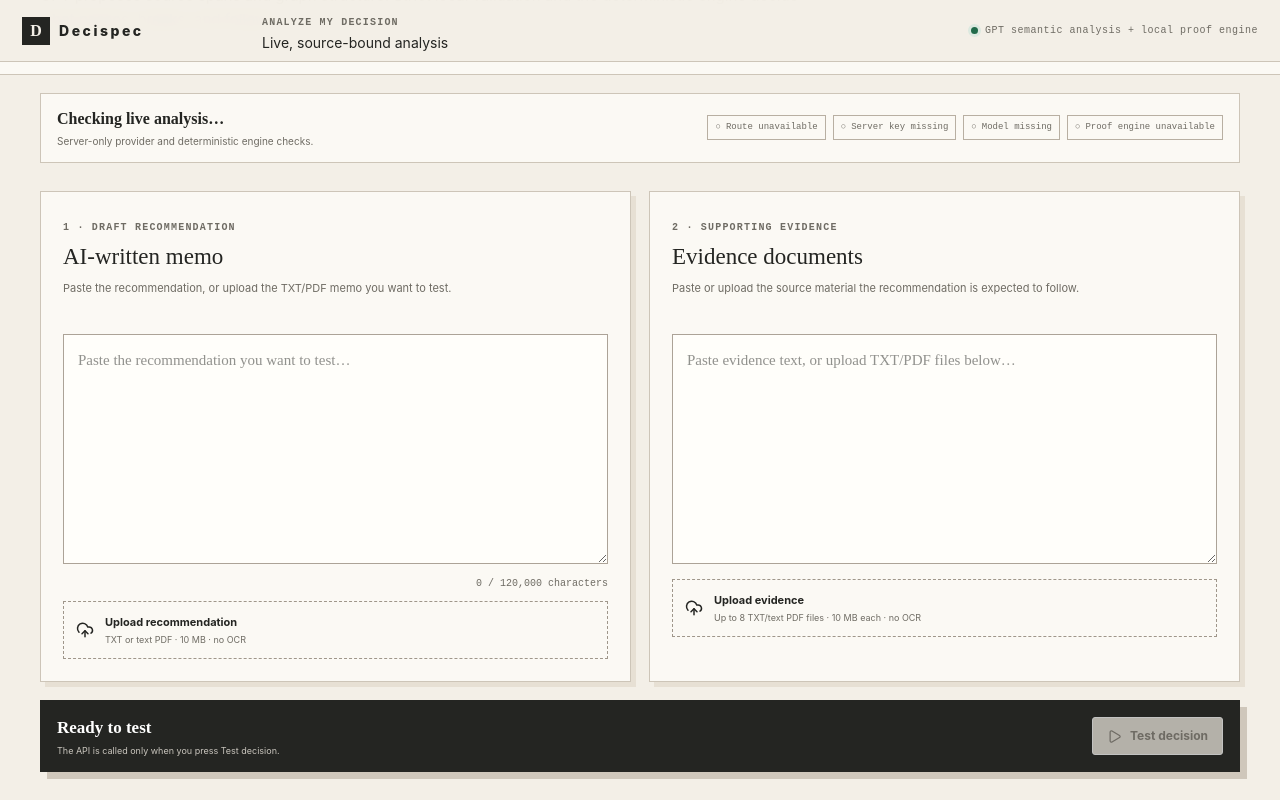
Test case: live analysis workspace › shows a safe error and never substitutes unverified output
(page scrolled)
Type "A draft" into the text box with placeholder "Paste the recommendation you want to test…".
click(336, 449); type("A draft")  # box [63, 334, 608, 564]
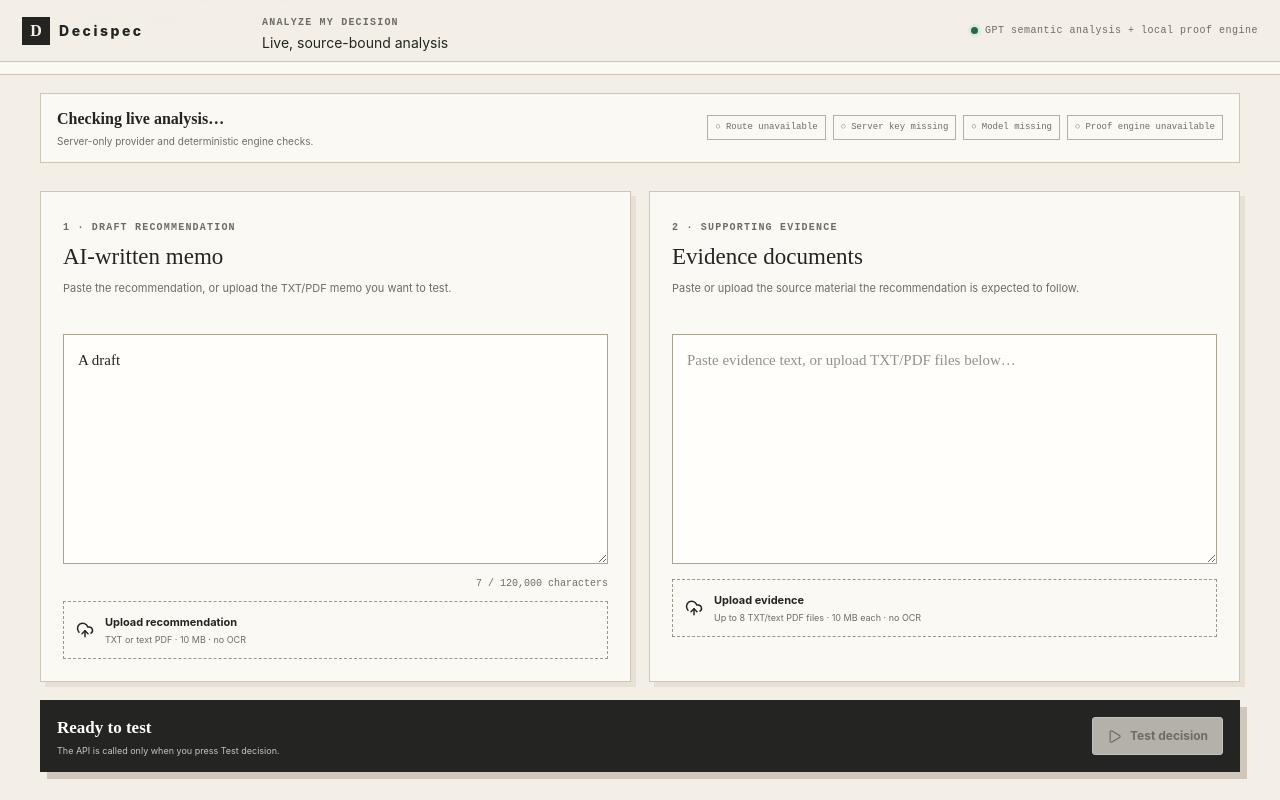
Type "Evidence" into the text box with placeholder "Paste evidence text, or upload TXT/PDF files below…".
click(944, 449); type("Evidence")  # box [672, 334, 1217, 564]
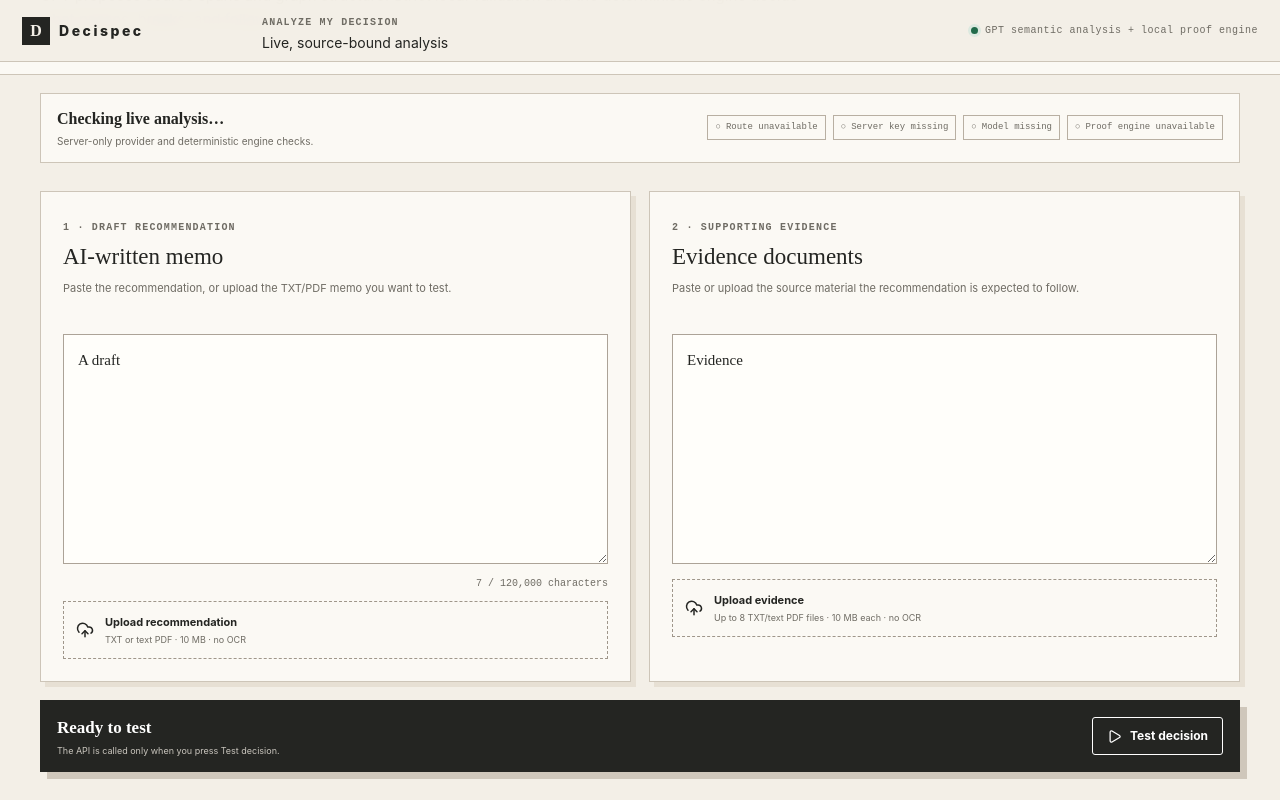
Click the button with test id "test-live-decision".
click(1158, 736)  # box [1092, 717, 1223, 755]
(page scrolled)
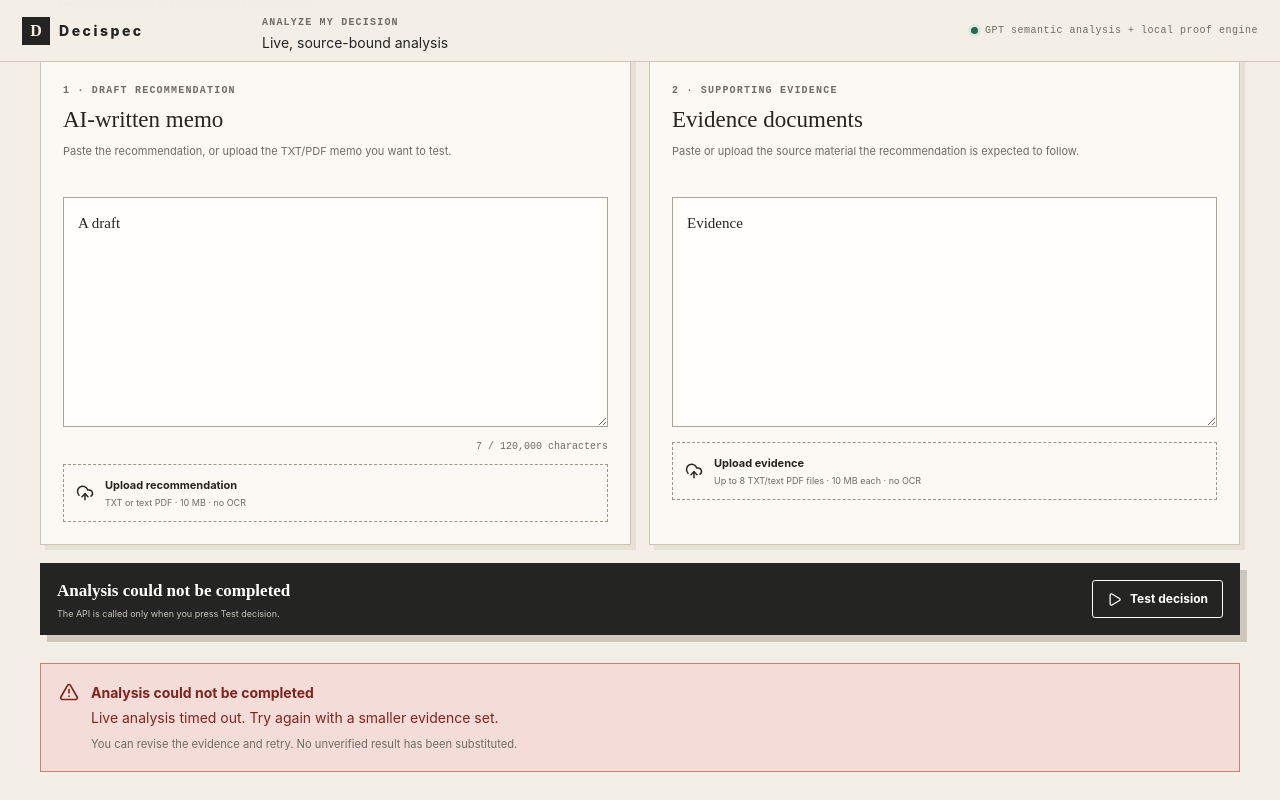
Check: the message shows "Analysis could not be completed", box [91, 684, 314, 701]
